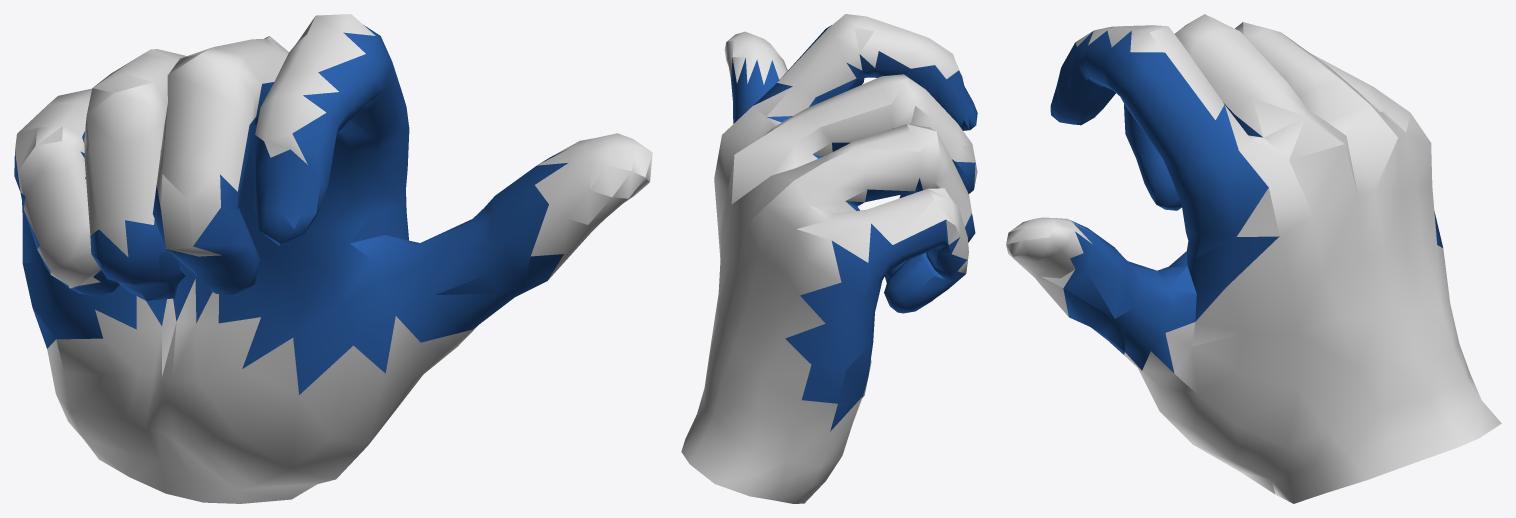
Rendered from video_drill.glb.
The picture shows the model from 3 angles, left to right: view 1: azimuth 30°, elevation 25°; view 2: azimuth 150°, elevation 25°; view 3: azimuth 270°, elevation 25°; orthographic projection. The views are drawn at different scales.
Parts seen in each view (by area): view 1: mesh0; view 2: mesh0; view 3: mesh0.
Boxes of the visible parts, x1,y1,x2,y2 form: mesh0: [14, 14, 652, 503]; mesh0: [681, 14, 977, 503]; mesh0: [1006, 14, 1501, 503].
Size of the model in its own units: 0.1292 by 0.1455 by 0.1411.
